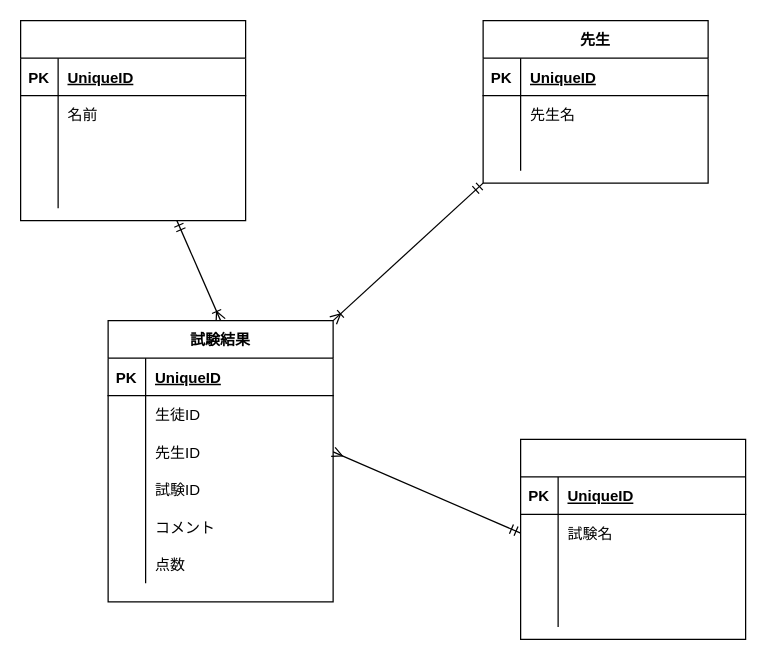
The diagram is 766 pixels wide and 660 high, and some of its shapes have lost their labels. Each missing label, with the box of its shape:
生徒: (19, 19, 246, 221)
試験: (519, 438, 746, 639)
